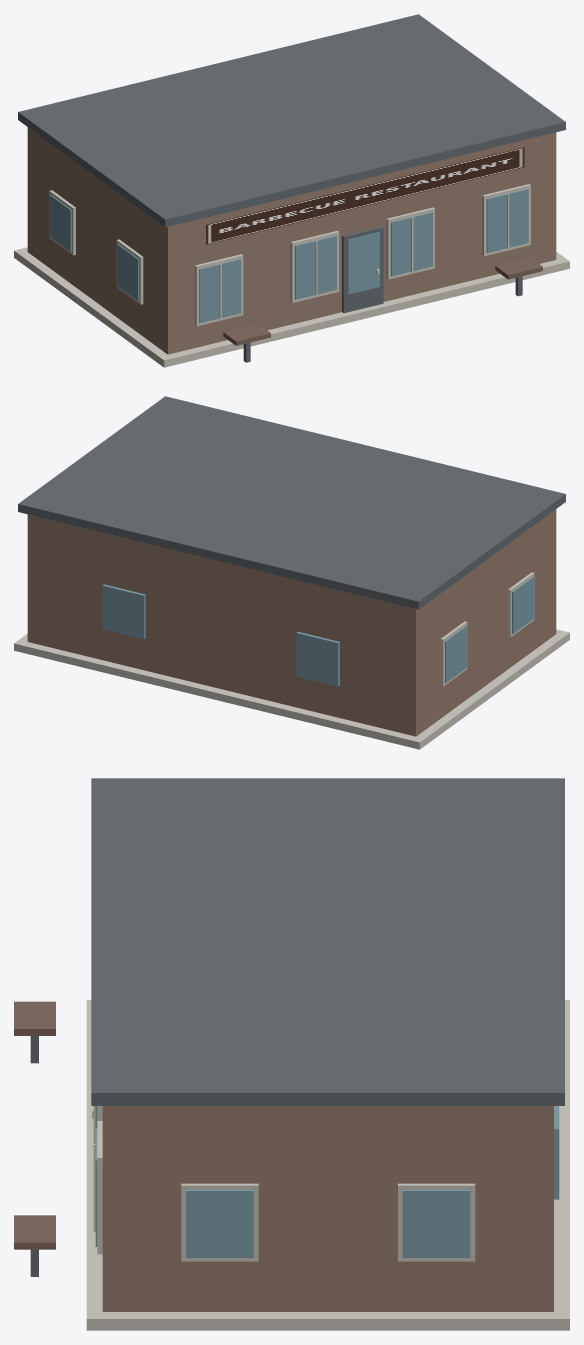
The model's file is barbecue_restaurant.glb.
3 renders of one model, top to bottom at view 1: azimuth 30°, elevation 25°; view 2: azimuth 150°, elevation 25°; view 3: azimuth 270°, elevation 25°, orthographic. The views are drawn at different scales.
Parts seen in each view (by area): view 1: world; view 2: world; view 3: world.
Boxes of the visible parts, x1,y1,x2,y2 form: world: (14, 14, 569, 367); world: (14, 396, 569, 749); world: (14, 778, 569, 1330).
Size of the model in its own units: 11.7 by 4.03 by 8.62.
Materials: 2 (1 with a texture image).
